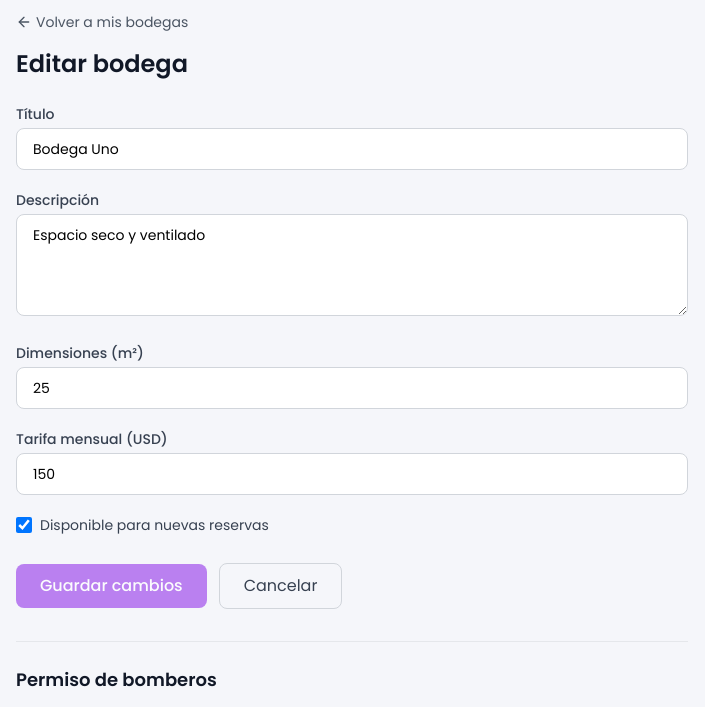
Test: EditarBodega re-review warning › does not show a review notice when the response does not flag one
Step 1. Click the checkbox labelled "Disponible para nuevas reservas" → (24, 525), box [16,517,32,533]
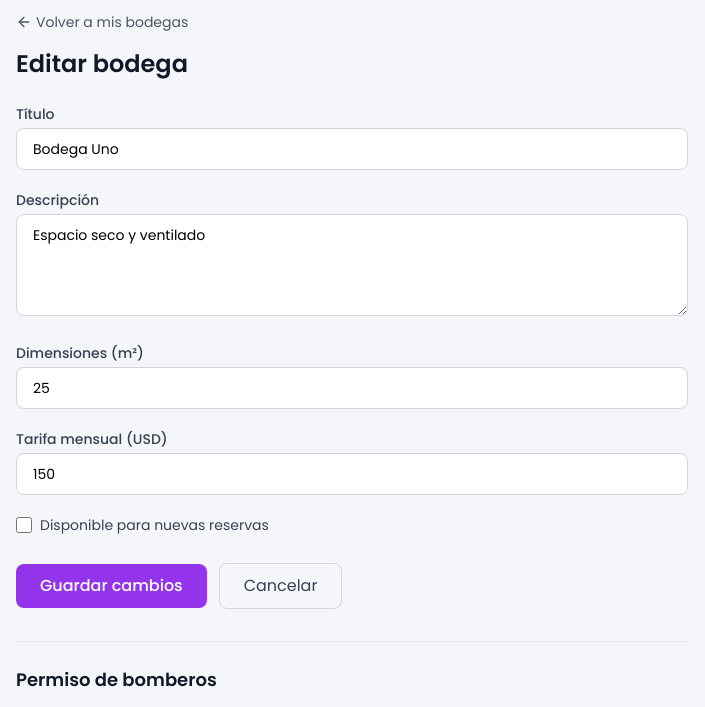
Step 2. Click the button "Guardar cambios" → (111, 586), box [16,564,207,608]
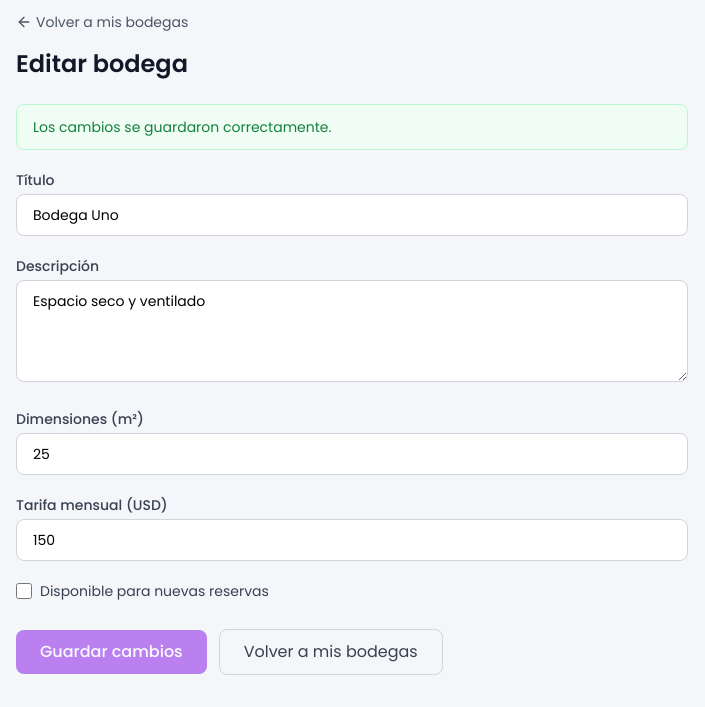
Check: the text "Los cambios se guardaron correctamente." is shown, box [16,104,688,150]
